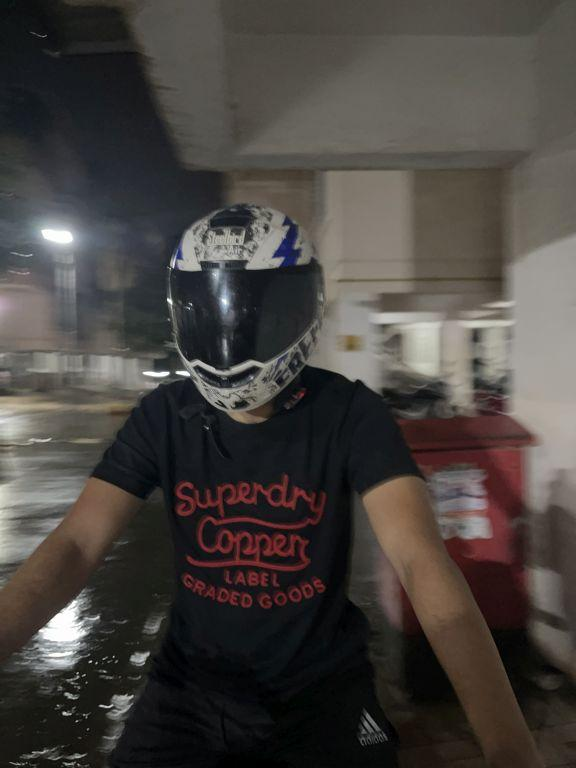helmet: (160, 187, 328, 422)
